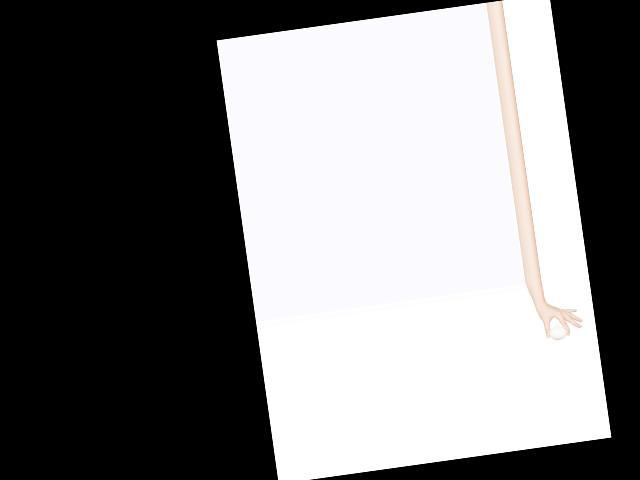egg: (548, 325, 567, 341)
